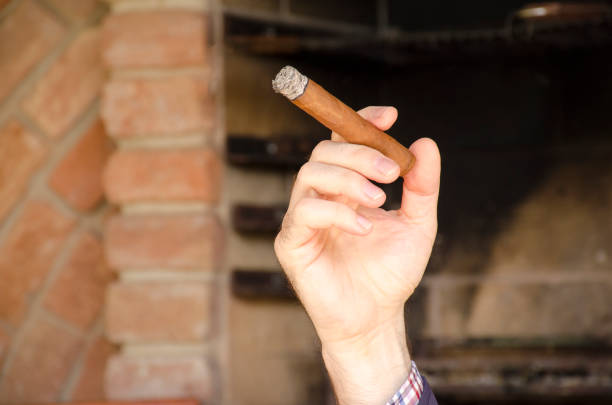cigarette: (274, 65, 414, 176)
